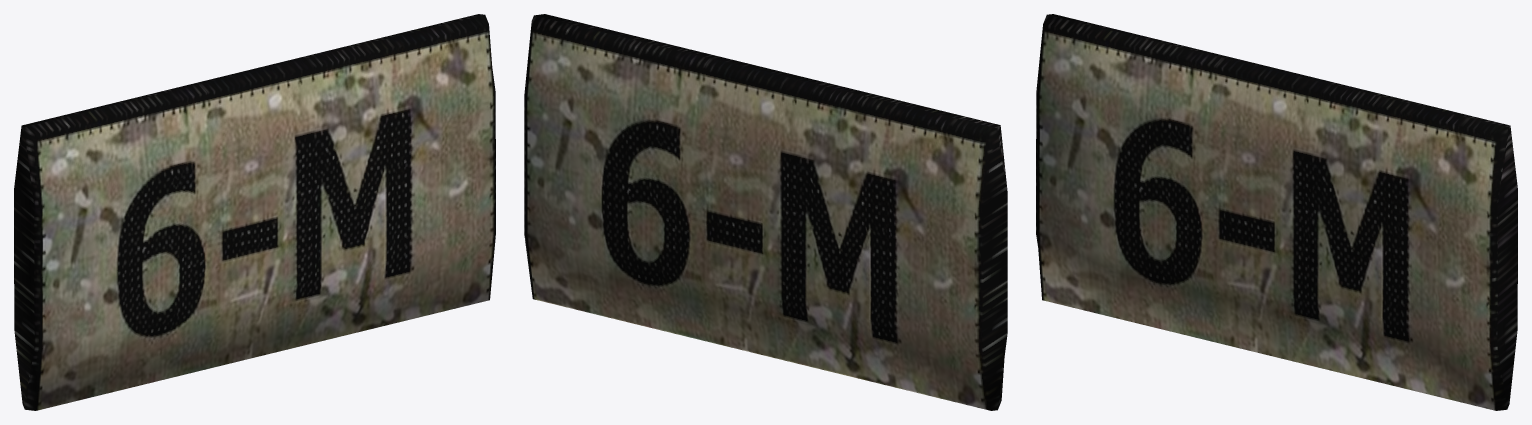
The model's file is Havoc6M.fbx.
3 views of the same model, side by side, from view 1: azimuth 30°, elevation 25°; view 2: azimuth 150°, elevation 25°; view 3: azimuth 330°, elevation 25° (orthographic).
Parts seen in each view (by area): view 1: FlagPatch; view 2: FlagPatch; view 3: FlagPatch.
Part boxes in pixels (<box>): FlagPatch: <box>14,14,495,410</box>; FlagPatch: <box>524,14,1007,410</box>; FlagPatch: <box>1036,14,1517,410</box>.
Size of the model in its own units: 9.23 by 5.38 by 0.9201.
